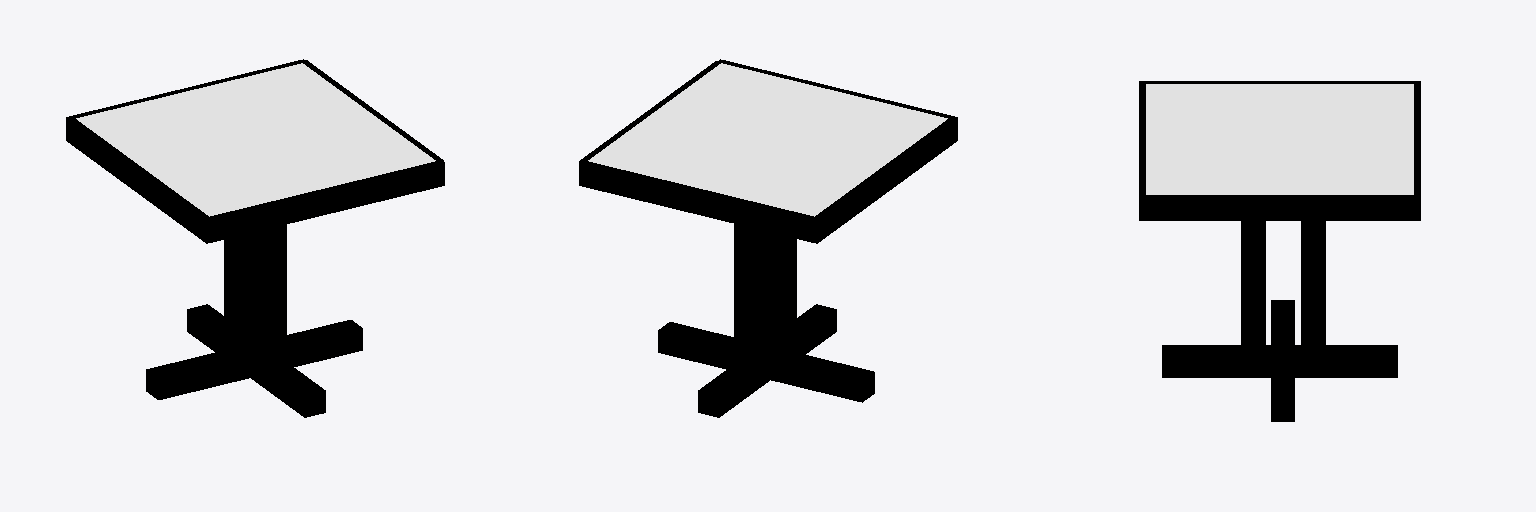
3 renders of one model, left to right at view 1: azimuth 30°, elevation 25°; view 2: azimuth 150°, elevation 25°; view 3: azimuth 270°, elevation 25°, orthographic.
Parts seen in each view (by area): view 1: pasted__pCube2; view 2: pasted__pCube2; view 3: pasted__pCube2.
Part boxes in pixels (x1,y1,x2,y2): pasted__pCube2: (66,59,444,417); pasted__pCube2: (579,59,957,417); pasted__pCube2: (1139,81,1420,421).
Bounding box in the file's own units: 3.57 × 3.31 × 3.64.
Materials: 2 (2 with a texture image).